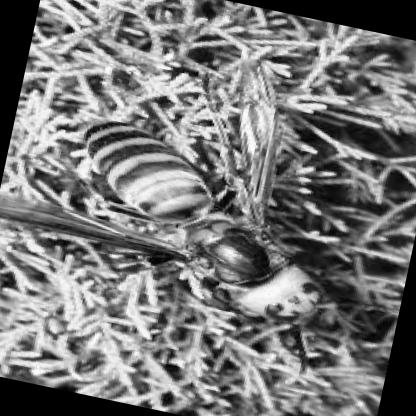european: (2, 28, 415, 356)
